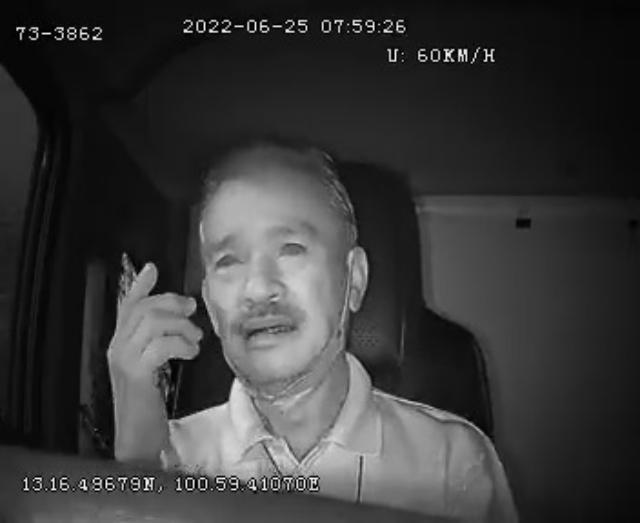PhoneUse: (118, 249, 184, 423)
SafeDriving: (207, 237, 252, 281), (272, 228, 314, 264)
